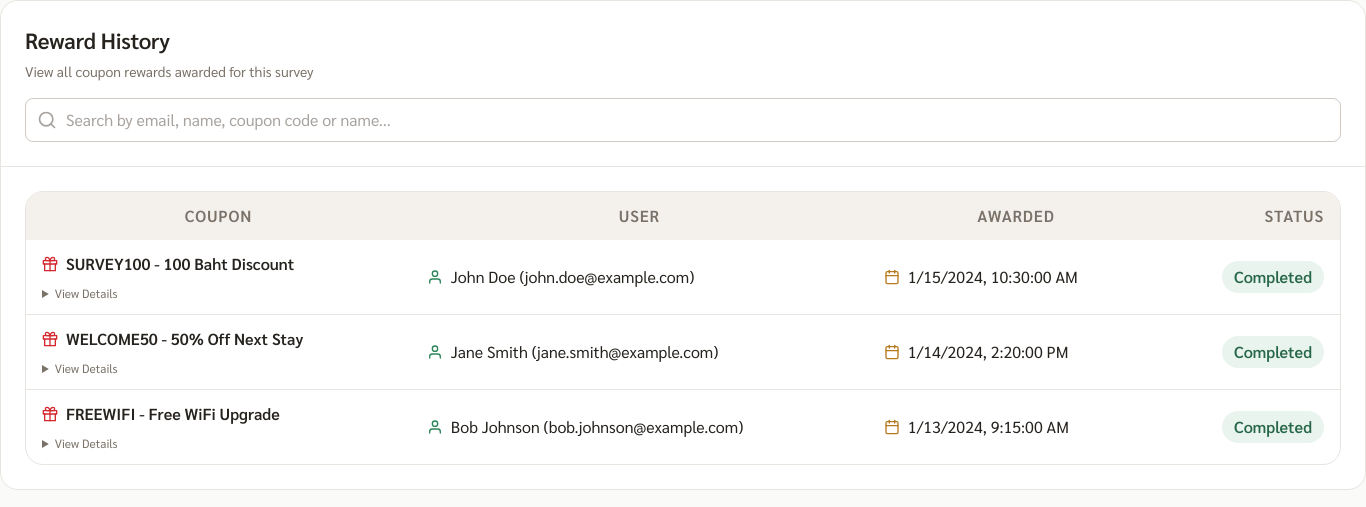
Test case: SurveyRewardHistory › Search Functionality - Email › should filter by partial email
This screenshot has width=1366, height=507.
Expected: the text "John Doe (john.doe@example.com)" is shown, [451, 265, 694, 289]
Type "bob.johnson" into the field with placeholder "Search by email, name, coupon code or name...".
click(683, 120); type("bob.johnson")  # box [25, 98, 1341, 142]
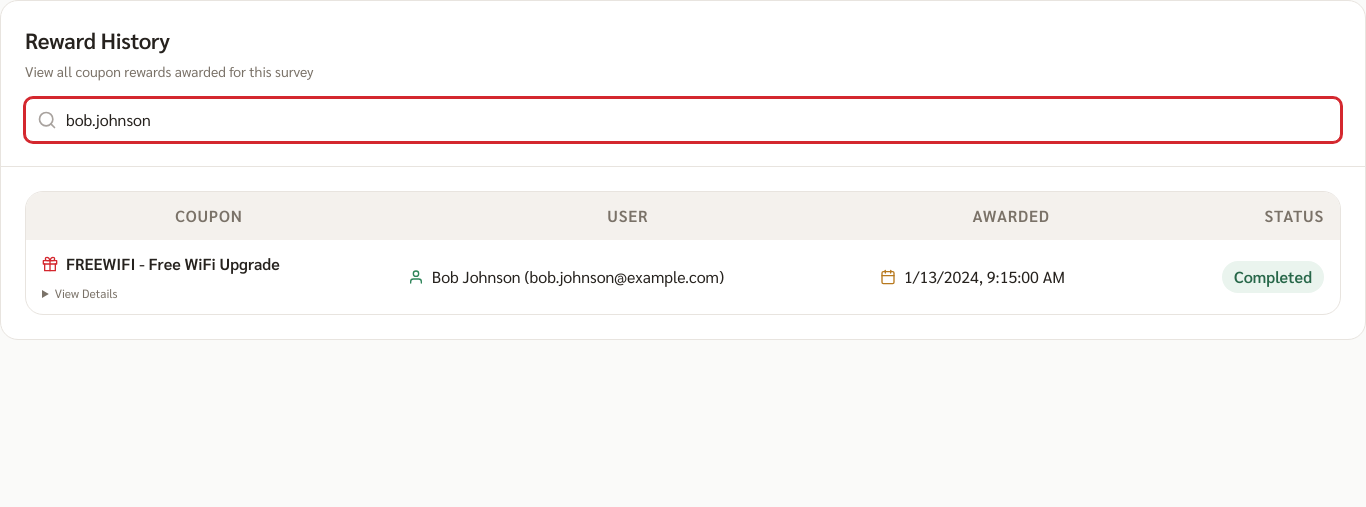
Expected: the text "Bob Johnson (bob.johnson@example.com)" is shown, [432, 265, 724, 289]
Expected: the text "John Doe" is gone
Expected: the text "Jane Smith" is gone
